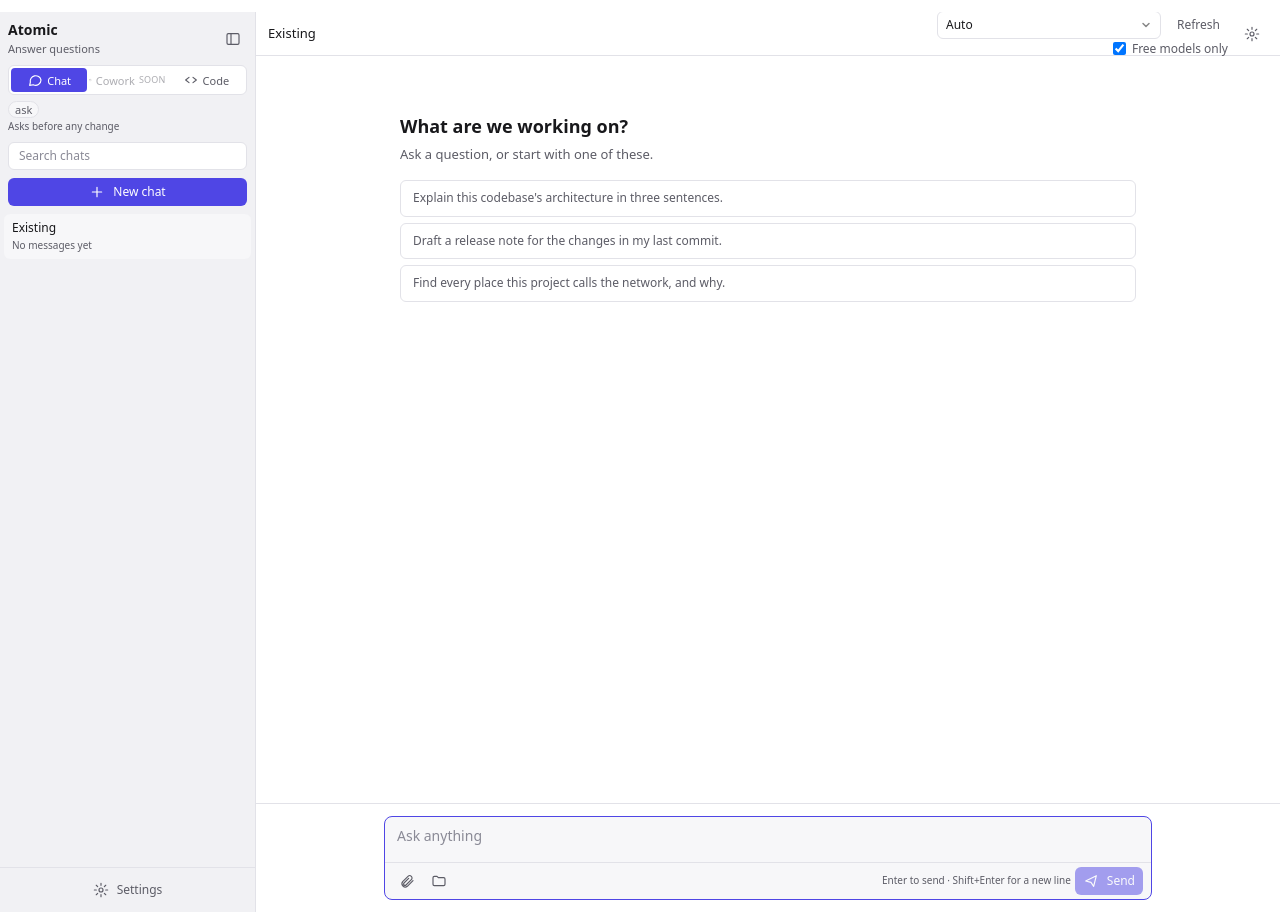
Test: New chat, through the real App › creates a conversation and puts the cursor in the composer
The image size is (1280, 912).
Expected: the text box labelled "Ask anything" is enabled, x1=385 y1=817 x2=1151 y2=856
Click the button "New chat" at point(128, 192), box x1=8 y1=178 x2=247 y2=206
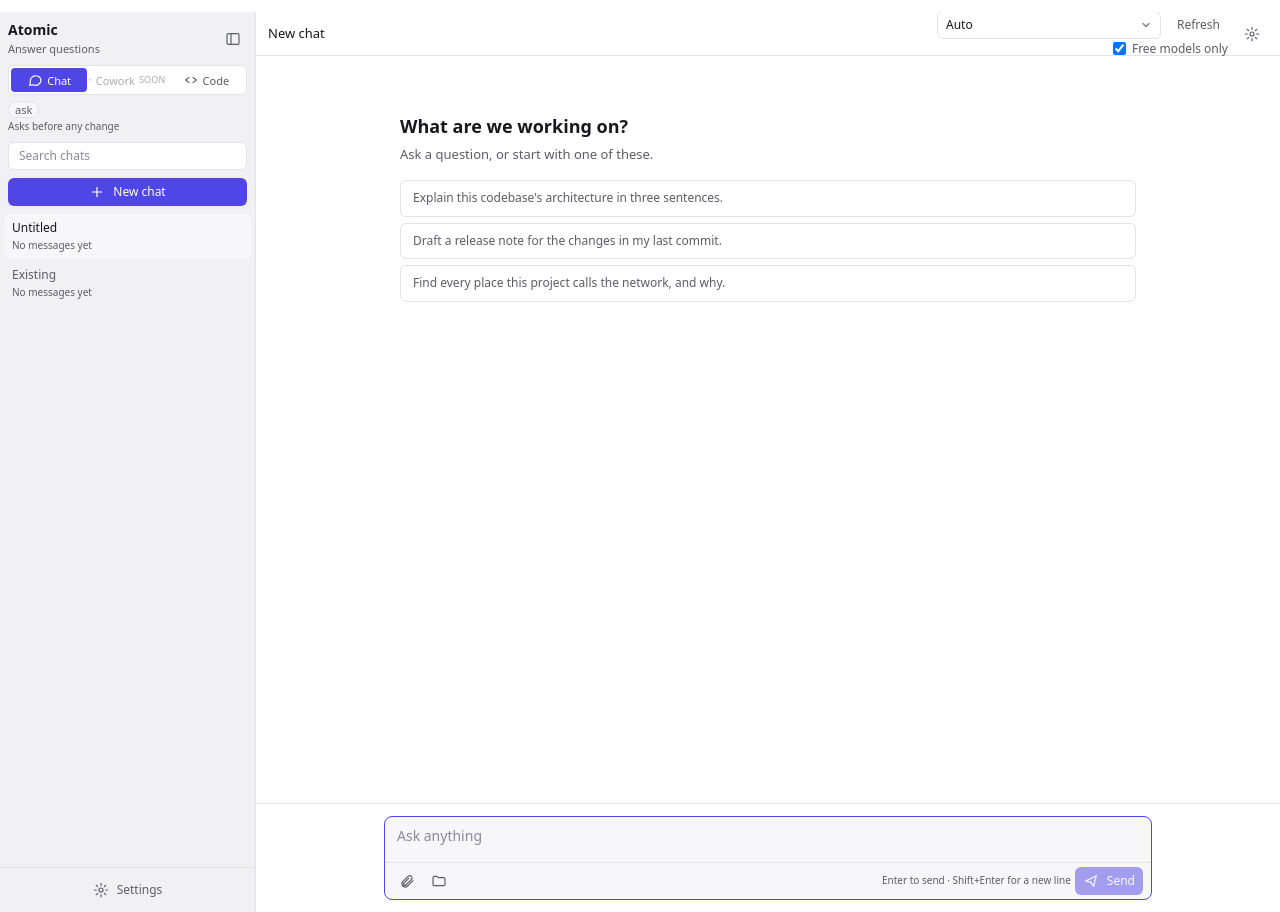
Expected: the text box labelled "Ask anything" is enabled, x1=385 y1=817 x2=1151 y2=856
Expected: the button "Untitled No messages yet" is shown, x1=4 y1=214 x2=251 y2=259
